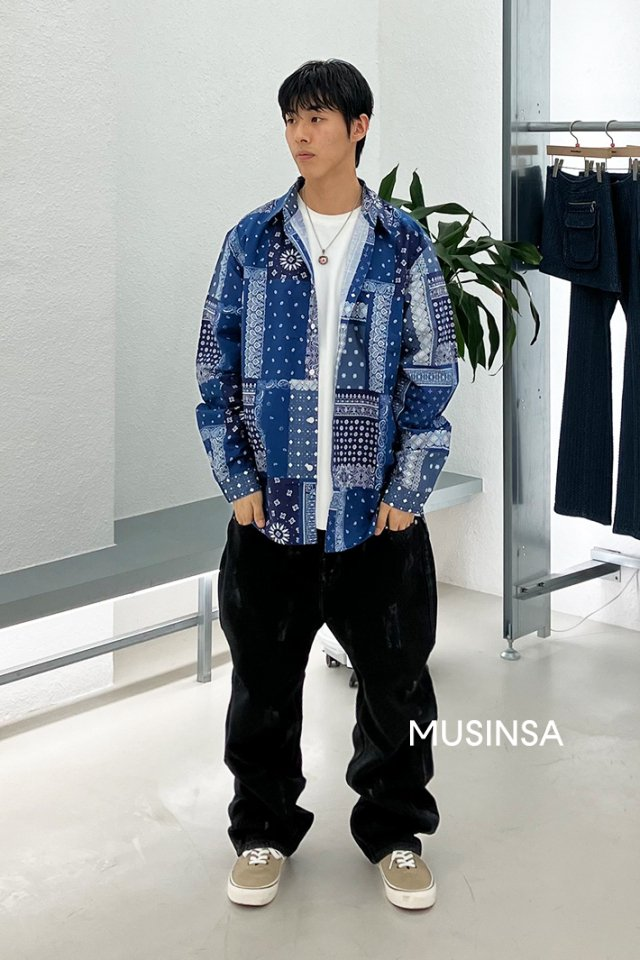Accessories: (300, 192, 362, 273)
Pants: (226, 496, 446, 855)
Shirt: (189, 172, 455, 544)
Shoes: (212, 837, 446, 918)
